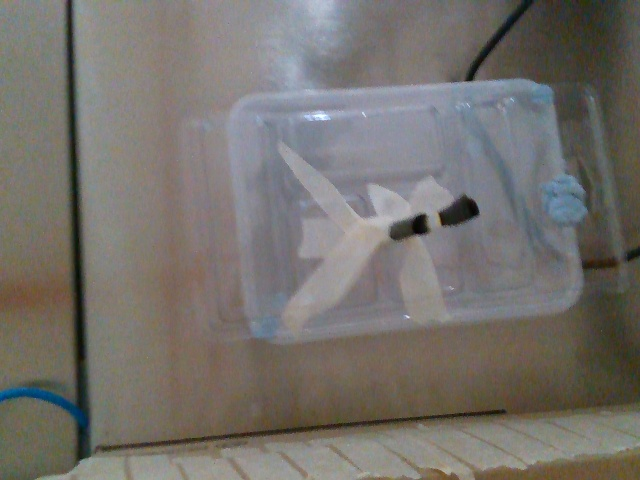test_strip: (425, 192, 478, 232)
